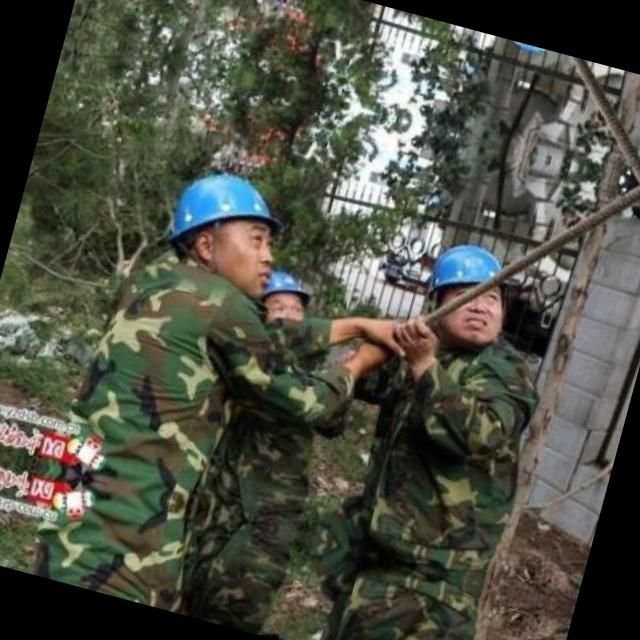helmet: (143, 149, 304, 305), (405, 224, 519, 351), (248, 260, 318, 334)
